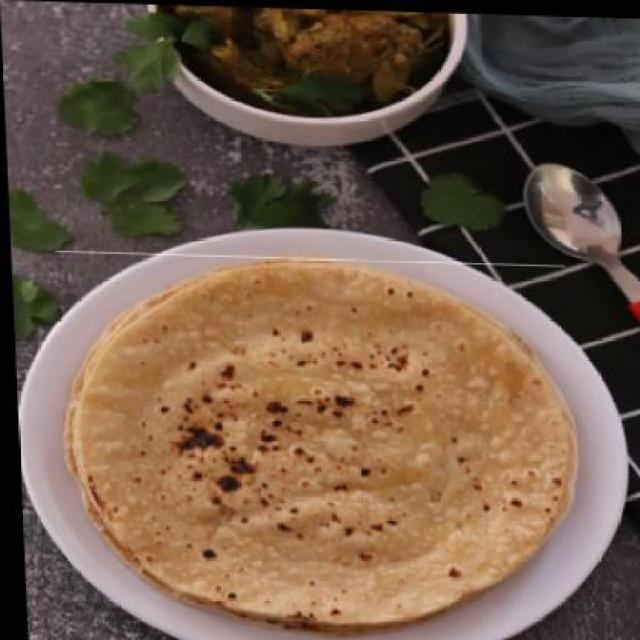chapati: (53, 250, 578, 639)
